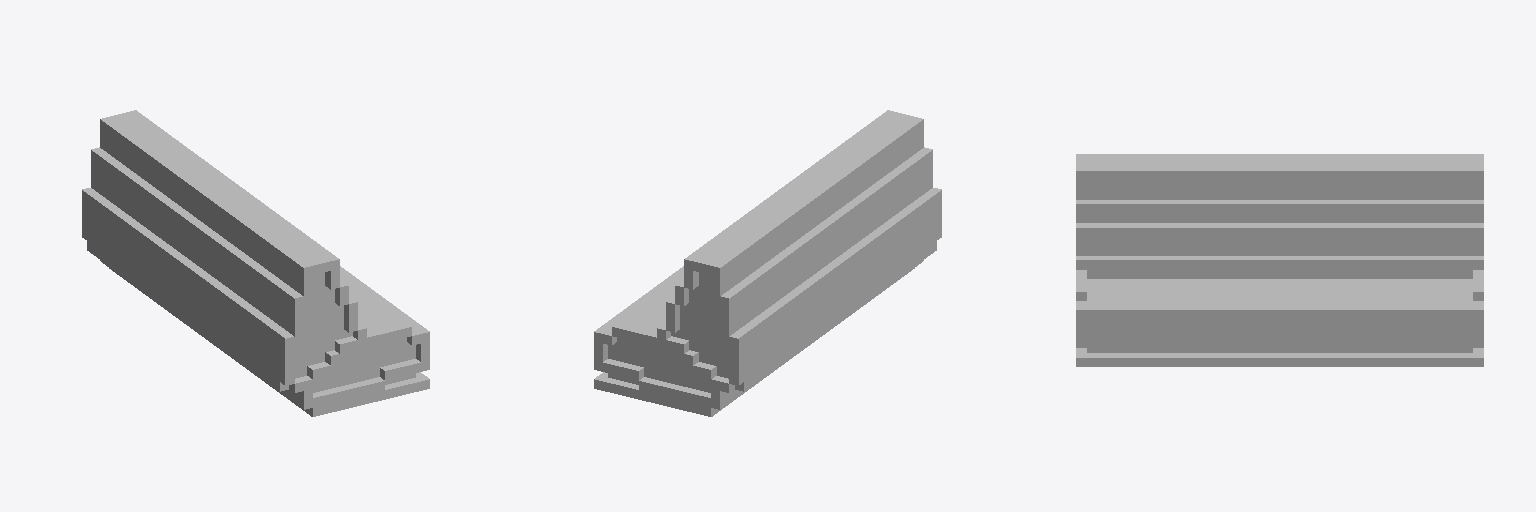
Rendered from couch.obj.
3 views of the same model, side by side, from view 1: azimuth 30°, elevation 25°; view 2: azimuth 150°, elevation 25°; view 3: azimuth 270°, elevation 25° (orthographic).
Parts seen in each view (by area): view 1: couch; view 2: couch; view 3: couch.
Boxes of the visible parts, <box> form: couch: <box>82,110,429,416</box>; couch: <box>594,110,941,416</box>; couch: <box>1076,154,1483,366</box>.
Size of the model in its own units: 16 by 16 by 39.